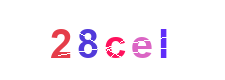2: (41, 0, 121, 80)
8: (71, 0, 151, 80)
C: (73, 0, 153, 80)
E: (78, 0, 158, 80)
L: (89, 0, 169, 80)
